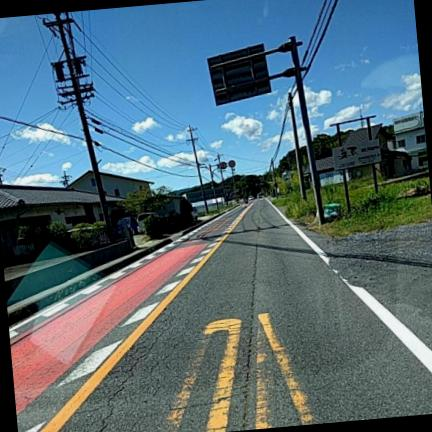Road: (9, 200, 431, 431)
